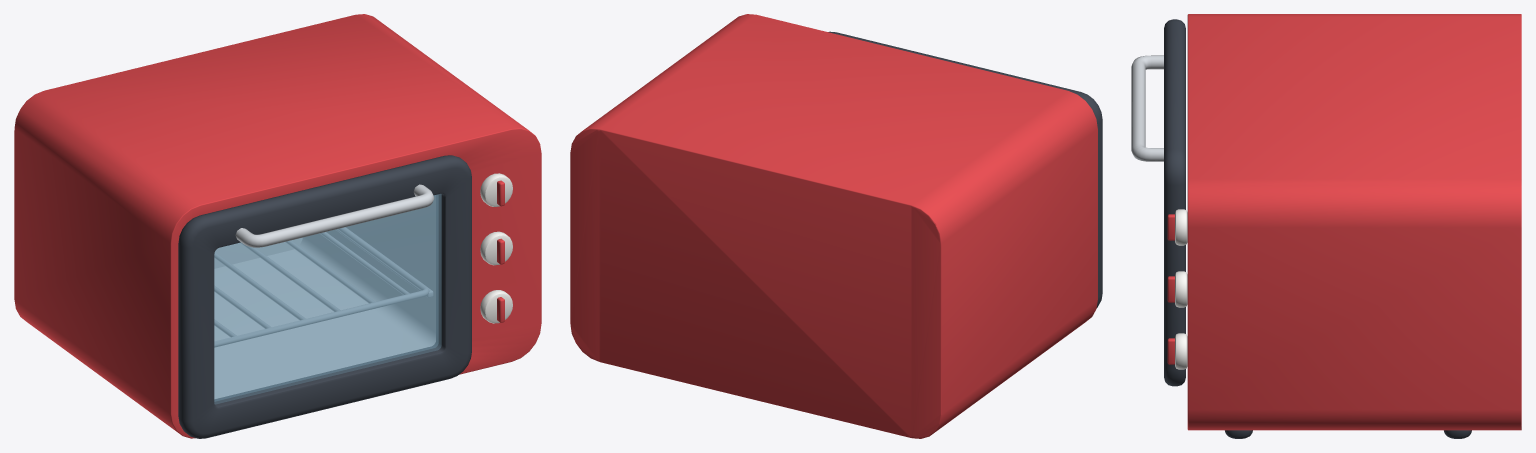
The model's file is forno_eletrico_vermelho.glb.
The picture shows the model from 3 angles, left to right: view 1: azimuth 30°, elevation 25°; view 2: azimuth 150°, elevation 25°; view 3: azimuth 270°, elevation 25°; orthographic projection. The views are drawn at different scales.
Visible parts, largest first — view 1: forno_eletrico_vermelho, porta; view 2: forno_eletrico_vermelho, porta; view 3: forno_eletrico_vermelho, porta.
Boxes of the visible parts, x1,y1,x2,y2 form: forno_eletrico_vermelho: (14,14,541,438); porta: (178,155,471,438); forno_eletrico_vermelho: (570,14,1097,438); porta: (828,31,1102,307); forno_eletrico_vermelho: (1167,14,1521,438); porta: (1131,19,1185,386).
Size of the model in its own units: 0.5 by 0.32 by 0.428.
2 materials, 1 textured.
